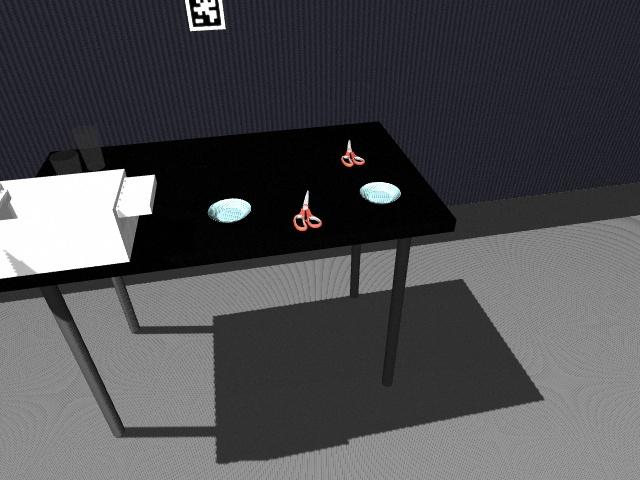cup: (72, 125, 105, 174), (50, 151, 82, 176)
plate: (206, 197, 252, 224), (358, 181, 402, 205)
scissors: (294, 190, 325, 232), (340, 138, 364, 167)
